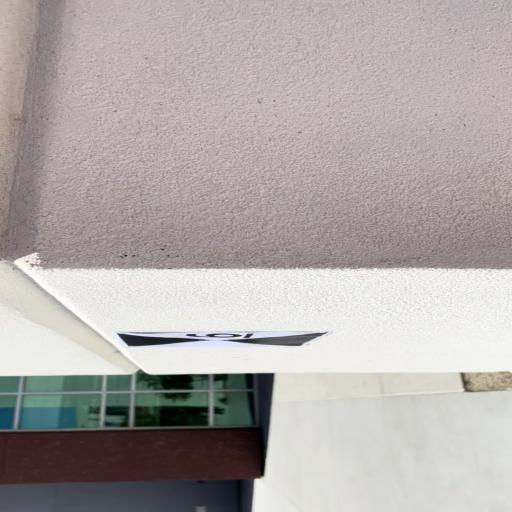target6: (120, 331, 331, 351)
